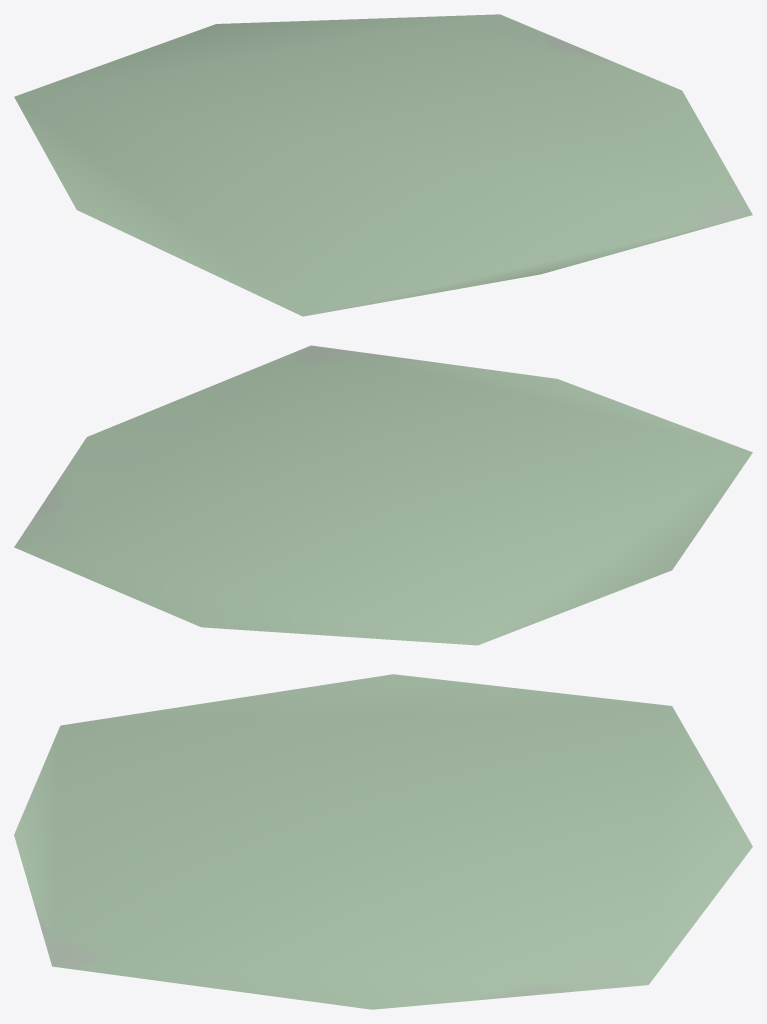
File: TROLLHOLE02_HOLECAP211.fbx
The picture shows the model from 3 angles, top to bottom: view 1: azimuth 30°, elevation 25°; view 2: azimuth 150°, elevation 25°; view 3: azimuth 270°, elevation 25°; orthographic projection. The views are drawn at different scales.
Visible parts, largest first — view 1: TROLLHOLE02_HOLECAP211; view 2: TROLLHOLE02_HOLECAP211; view 3: TROLLHOLE02_HOLECAP211.
Part boxes in pixels (x1,y1,x2,y2): TROLLHOLE02_HOLECAP211: (14,14,752,316); TROLLHOLE02_HOLECAP211: (14,345,752,645); TROLLHOLE02_HOLECAP211: (14,674,752,1009).
Bounding box in the file's own units: 13183 × 541 × 13066.
1 material, 1 textured.
